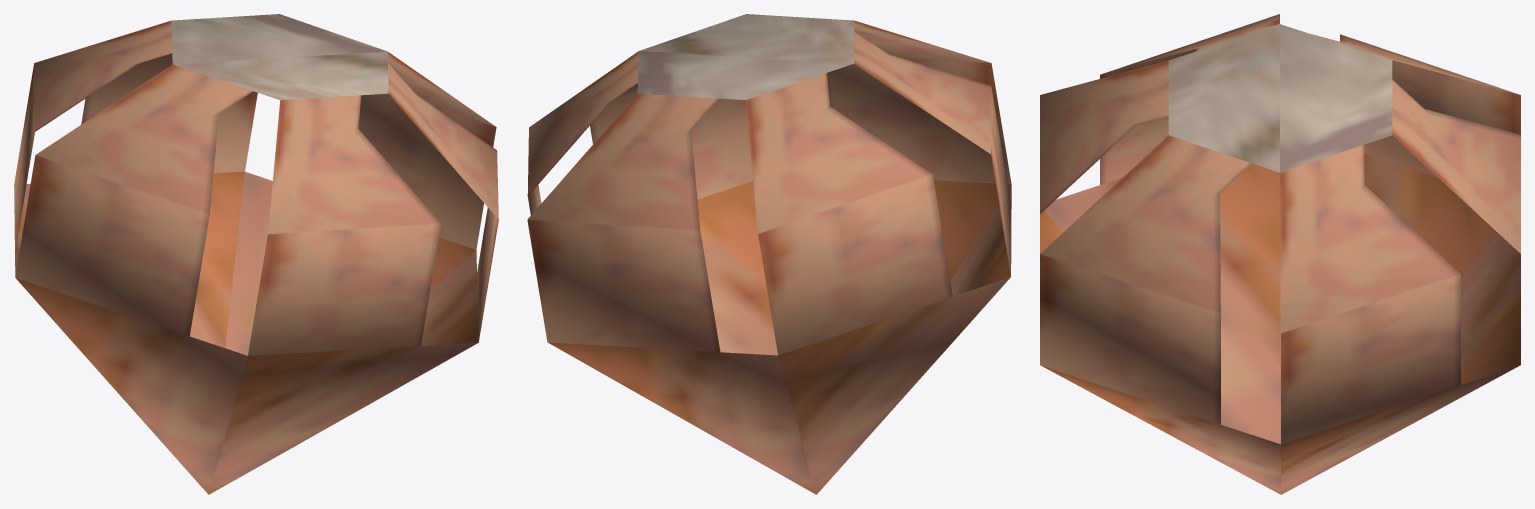
3 renders of one model, left to right at view 1: azimuth 30°, elevation 25°; view 2: azimuth 150°, elevation 25°; view 3: azimuth 270°, elevation 25°, orthographic. The views are drawn at different scales.
Visible parts, largest first — view 1: T1L7M004_23; view 2: T1L7M004_23; view 3: T1L7M004_23.
Part boxes in pixels (x1=…): T1L7M004_23: x1=14, y1=14, x2=498, y2=494; T1L7M004_23: x1=527, y1=14, x2=1011, y2=494; T1L7M004_23: x1=1040, y1=14, x2=1520, y2=494.
Bounding box in the file's own units: 0.4219 × 0.3682 × 0.3545.
